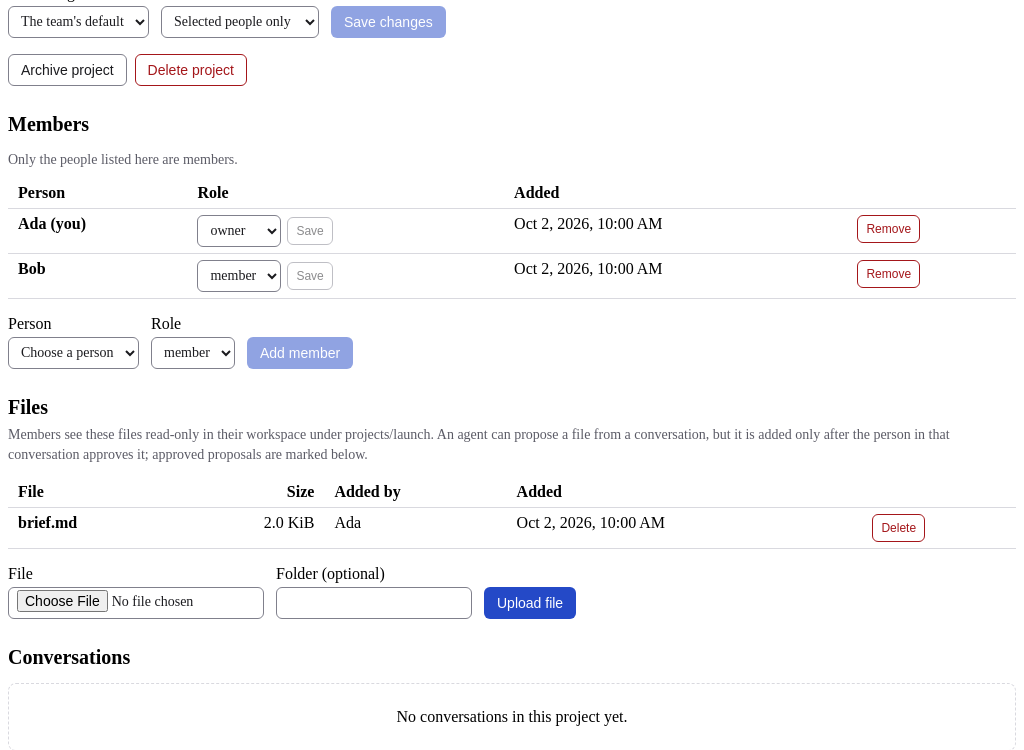
Test case: project files (KOBE-164, ac-1) › deletes a file after confirming; a refusal is shown
(page scrolled)
Click the button named "Delete brief.md" at (899, 528), box [872,514,925,542]
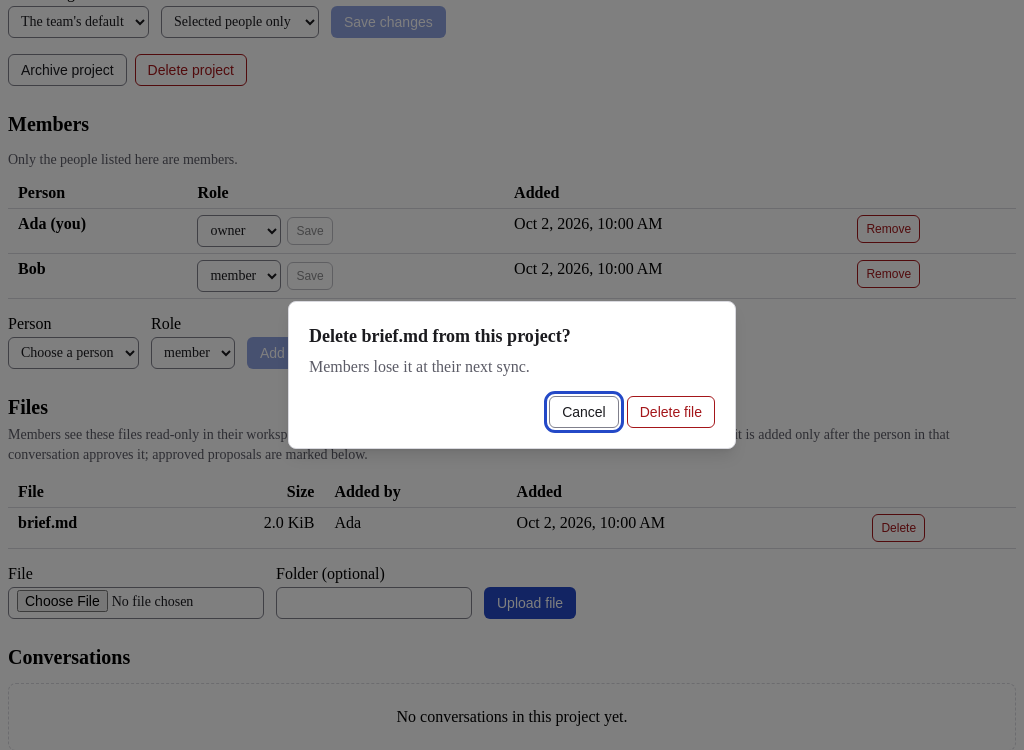
Click the button "Cancel" at (584, 412), box [549,396,619,428]
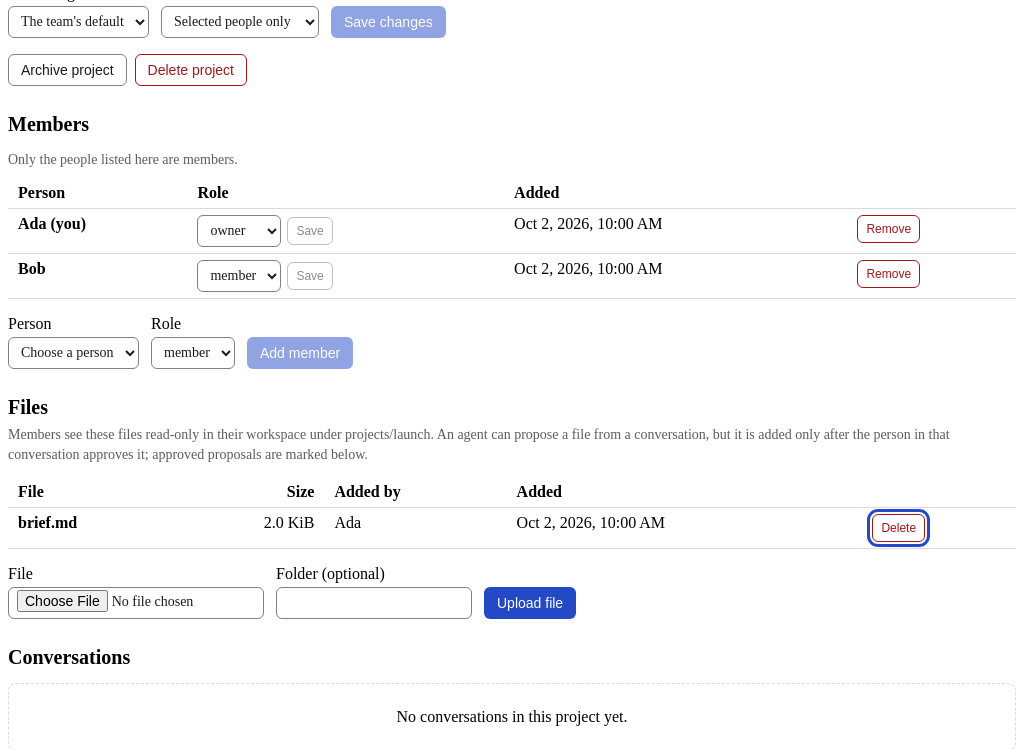
Click the button named "Delete brief.md" at (899, 528), box [872,514,925,542]
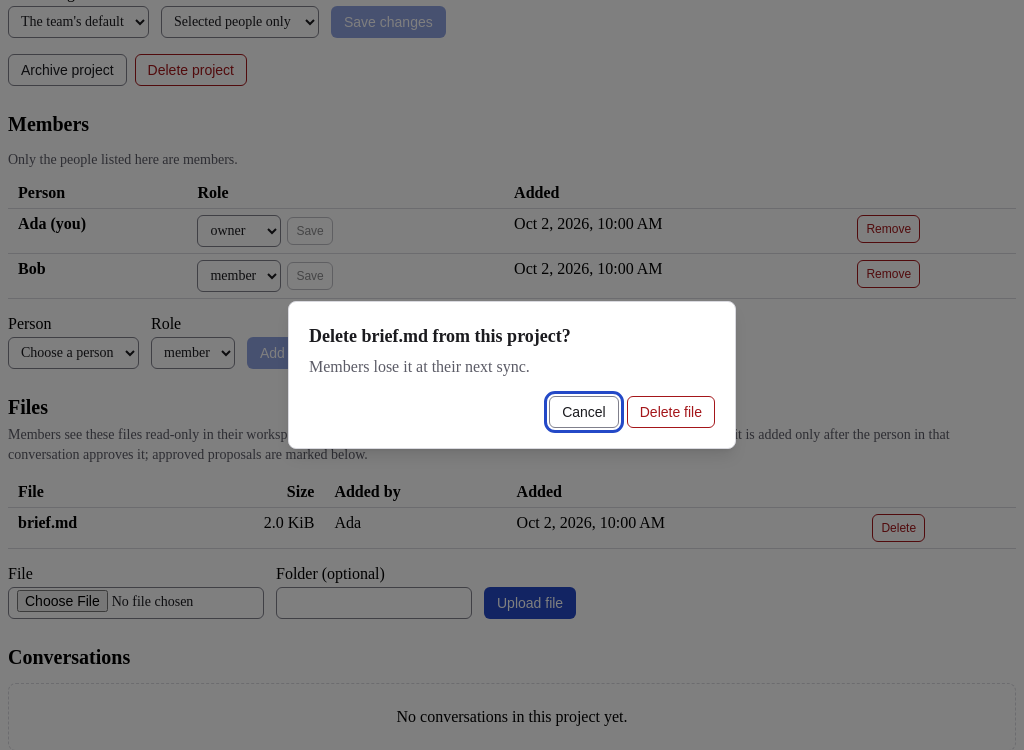
Click the button "Delete file" at (671, 412), box [627,396,715,428]
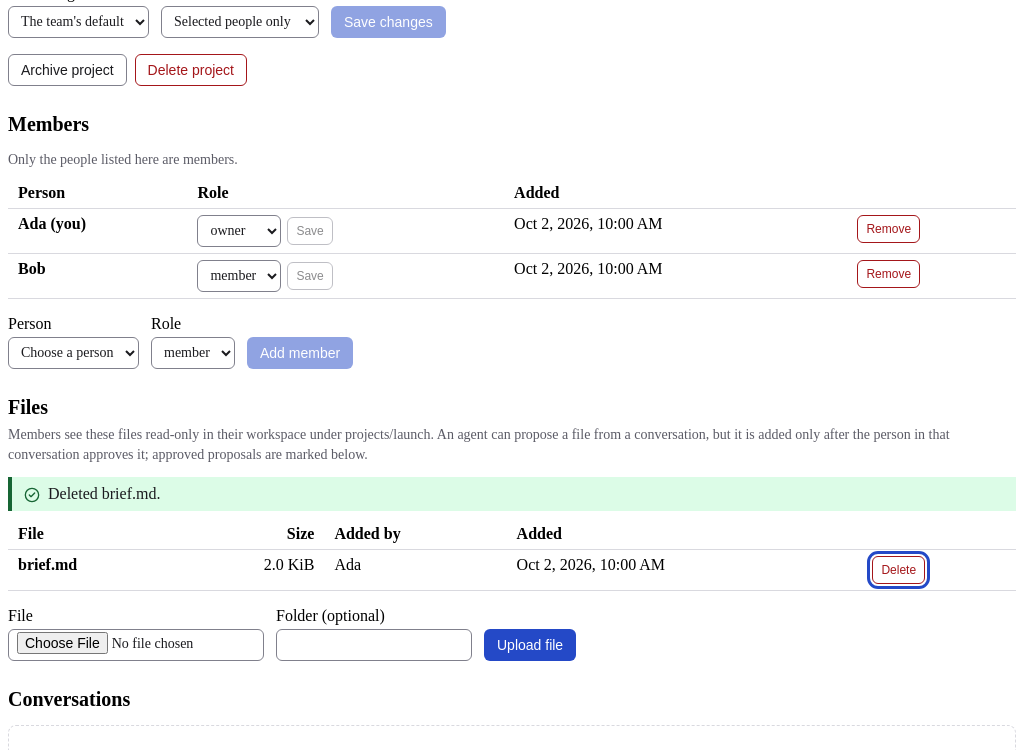
Now the text "Deleted brief.md." is shown, box [48,484,160,502]
